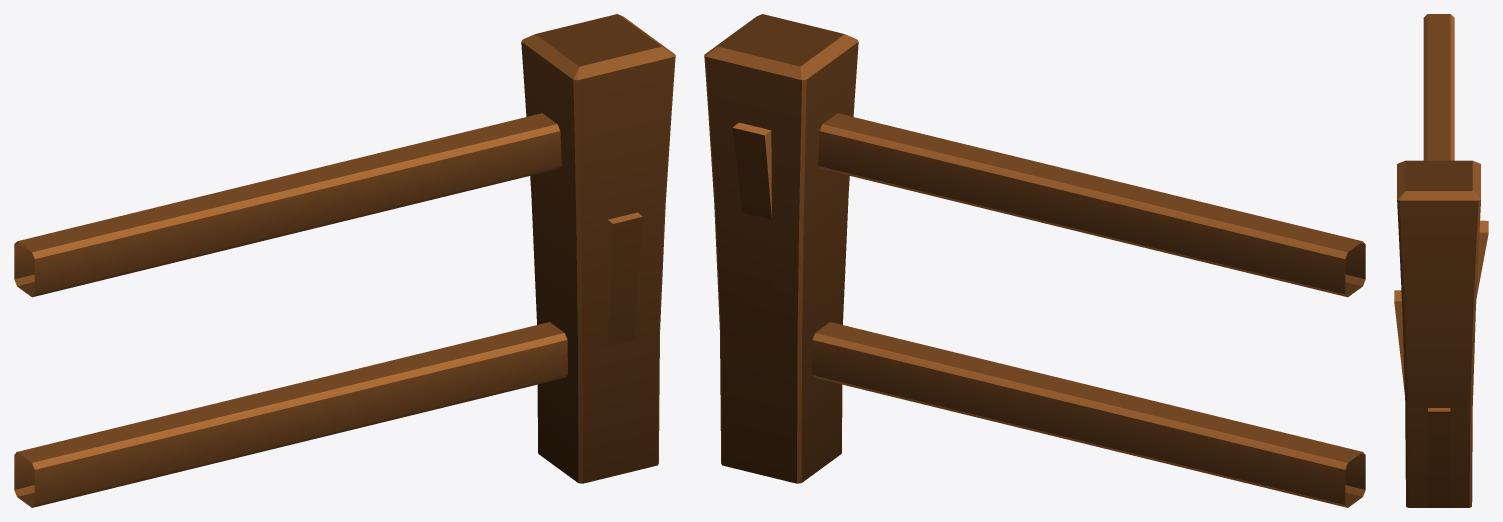
Rendered from Fence-2-2.fbx.
The picture shows the model from 3 angles, left to right: view 1: azimuth 30°, elevation 25°; view 2: azimuth 150°, elevation 25°; view 3: azimuth 270°, elevation 25°; orthographic projection. The views are drawn at different scales.
Parts seen in each view (by area): view 1: Fence-2-2; view 2: Fence-2-2; view 3: Fence-2-2.
Part boxes in pixels (x1,y1,x2,y2): Fence-2-2: (14,14,675,507); Fence-2-2: (704,14,1365,507); Fence-2-2: (1394,14,1488,507).
Size of the model in its own units: 230 by 147 by 39.69.
